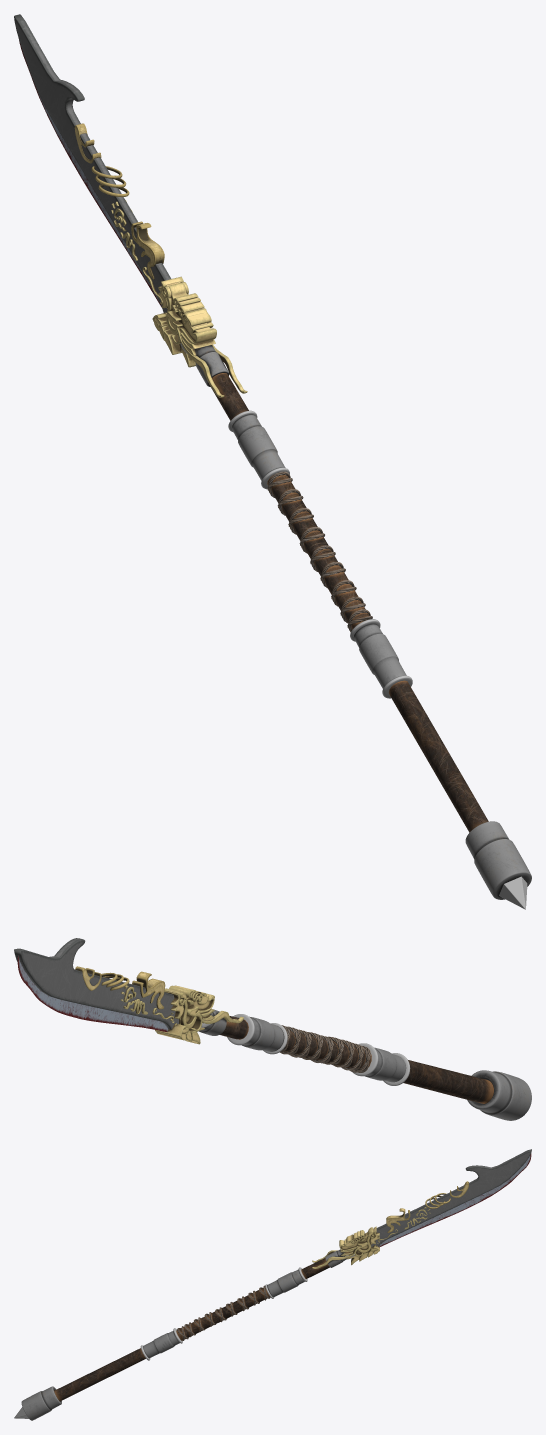
Rendered from vel.glb.
3 renders of one model, top to bottom at view 1: azimuth 30°, elevation 25°; view 2: azimuth 150°, elevation 25°; view 3: azimuth 270°, elevation 25°, orthographic. The views are drawn at different scales.
Visible parts, largest first — view 1: group53 (×5); view 2: group53 (×15), polySurface122; view 3: group53 (×7).
Part boxes in pixels (x1,y1,x2,y2): group53 (×5): [14, 14, 531, 899]; group53 (×15): [14, 938, 531, 1120]; polySurface122: [187, 1005, 202, 1031]; group53 (×7): [21, 1149, 531, 1420].
Bounding box in the file's own units: 0.8966 × 11.7 × 20.39.
9 materials, 9 textured.
